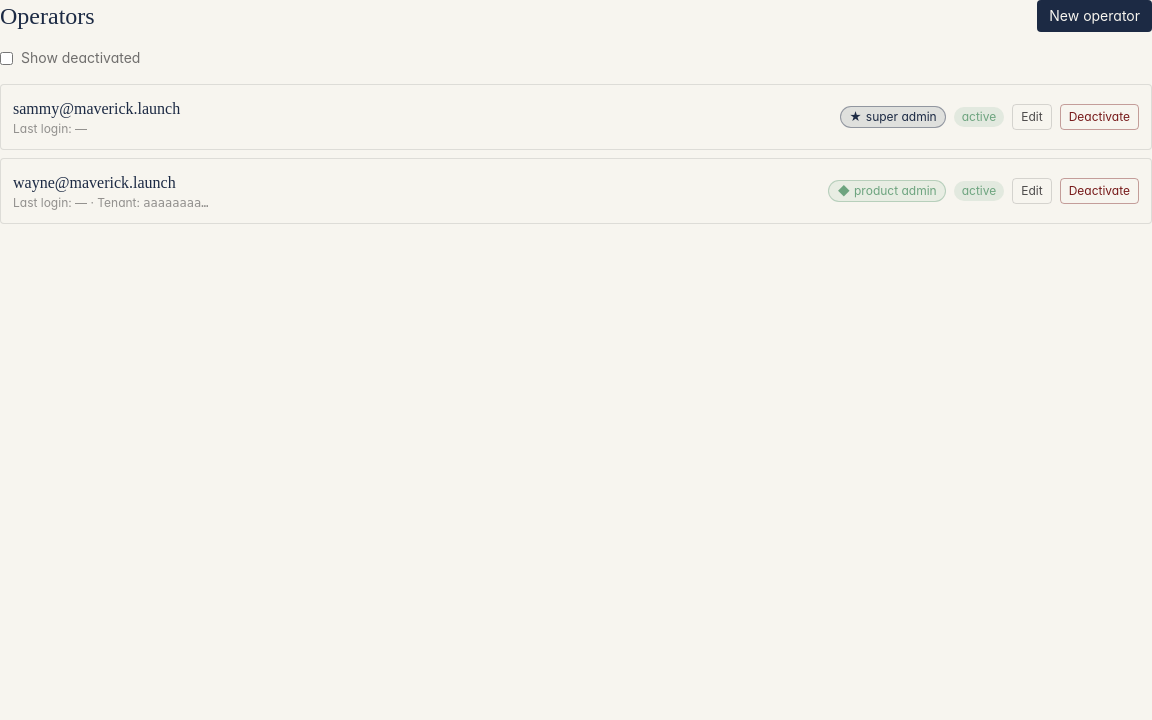
Test: OperatorsManager (HUB-1663) › New Operator modal › POSTs + surfaces the FE-generated temp password once with a Copy CTA
Expected: the element with test id "operators-manager-page" is shown, [0, 0, 1151, 224]
Click the button with test id "operators-manager-new" at (1095, 16), box [1037, 0, 1151, 32]
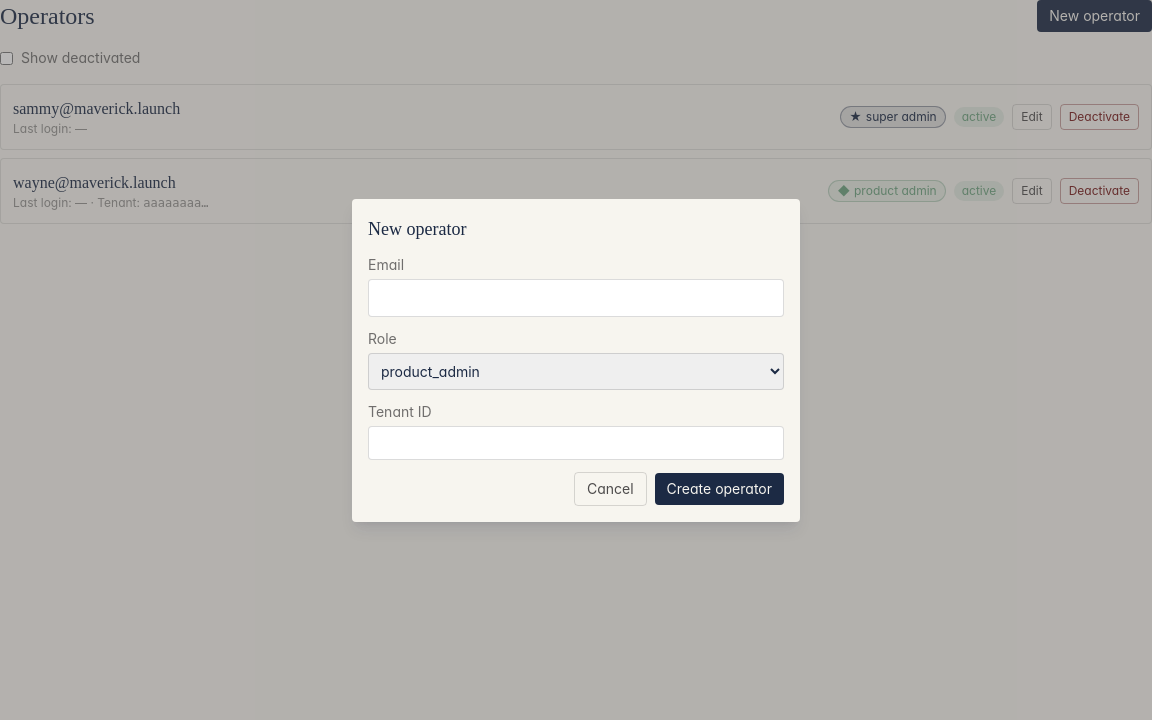
Type "wayne+2@maverick.launch" into the field with test id "new-operator-email" at (576, 298), box [368, 278, 784, 316]
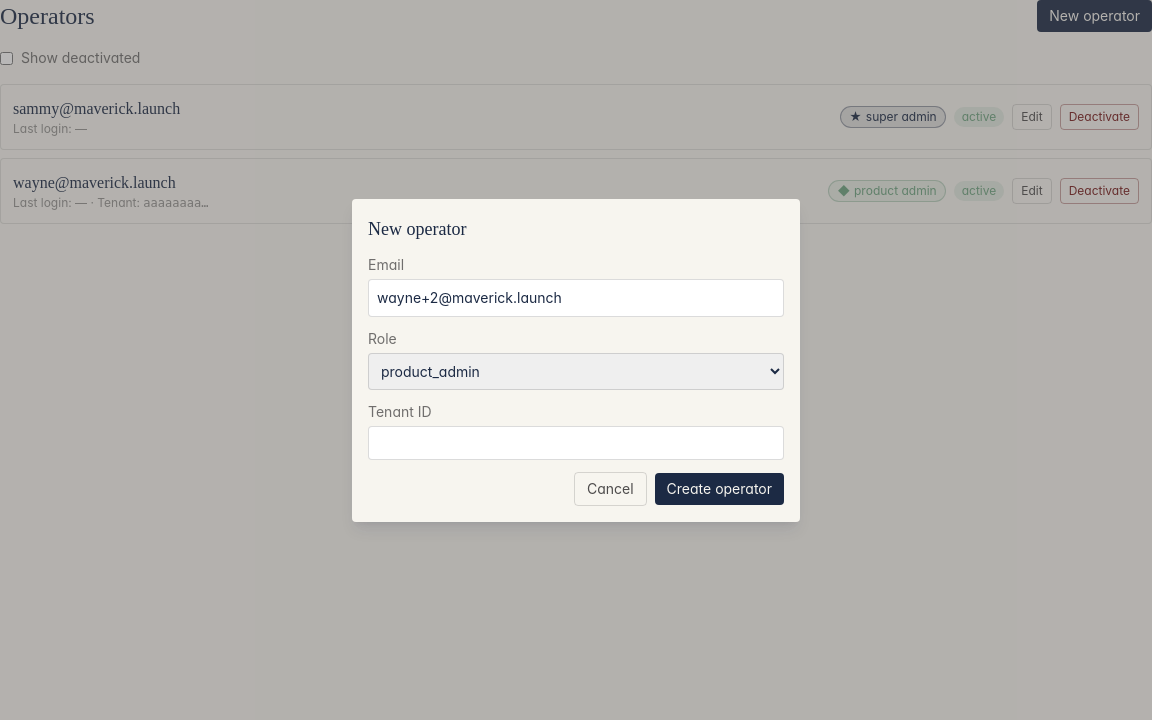
# Default role is product_admin — provide a tenant_id.
Type "aaaaaaaa-aaaa-aaaa-aaaa-aaaaaaaaaaaa" into the field with test id "new-operator-tenant-id" at (576, 442), box [368, 426, 784, 460]
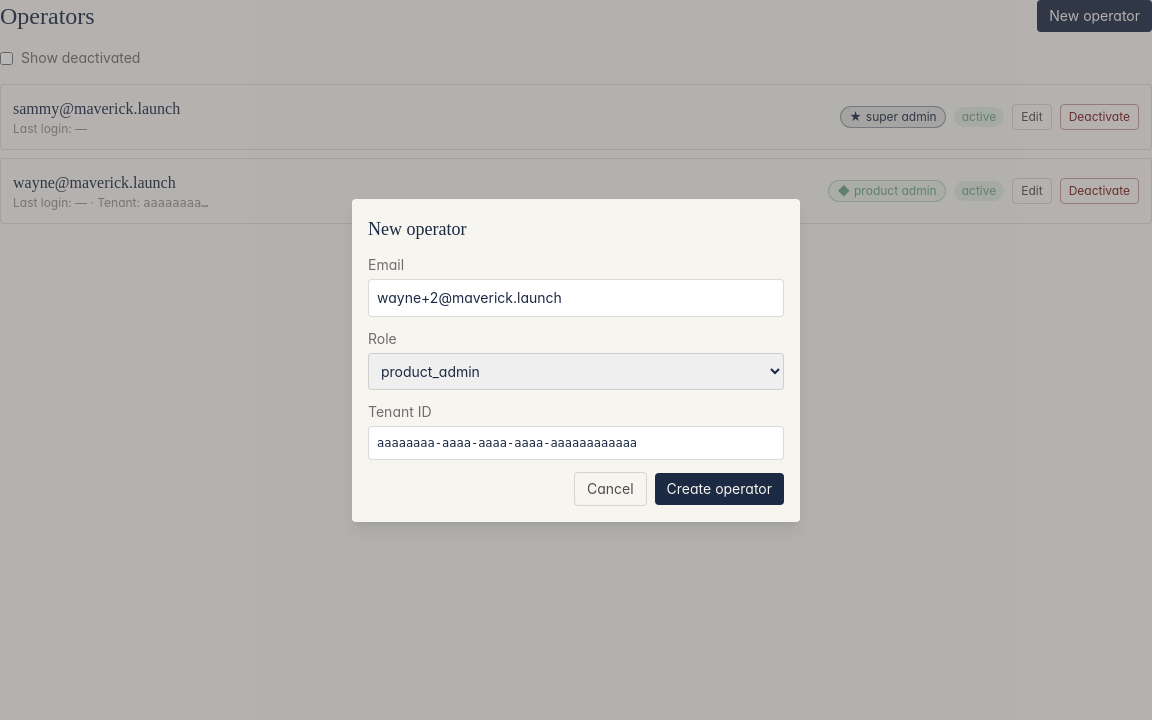
Click the button with test id "new-operator-submit" at (719, 488), box [655, 472, 784, 504]
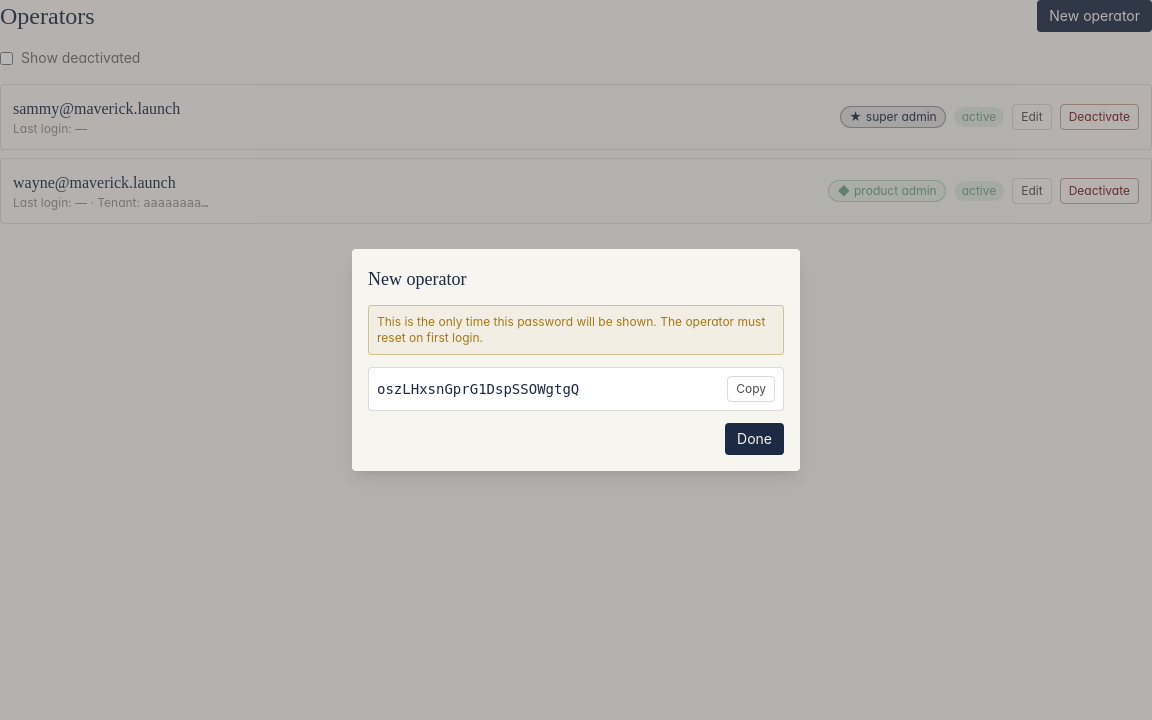
Expected: the message with test id "new-operator-password-banner" is shown, [368, 305, 784, 355]
# Copy CTA flips label to 'Copied'.
Click the button with test id "new-operator-copy" at (751, 389), box [727, 376, 775, 402]
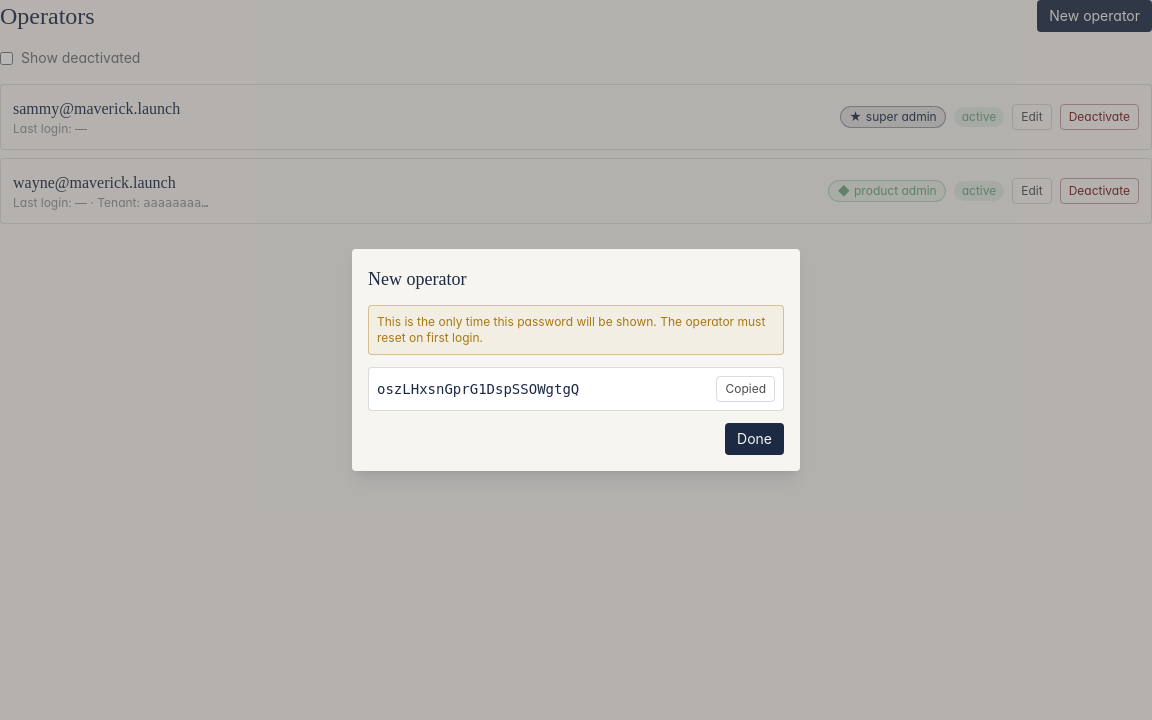
Expected: the button with test id "new-operator-copy" reads "Copied", [716, 376, 775, 402]
